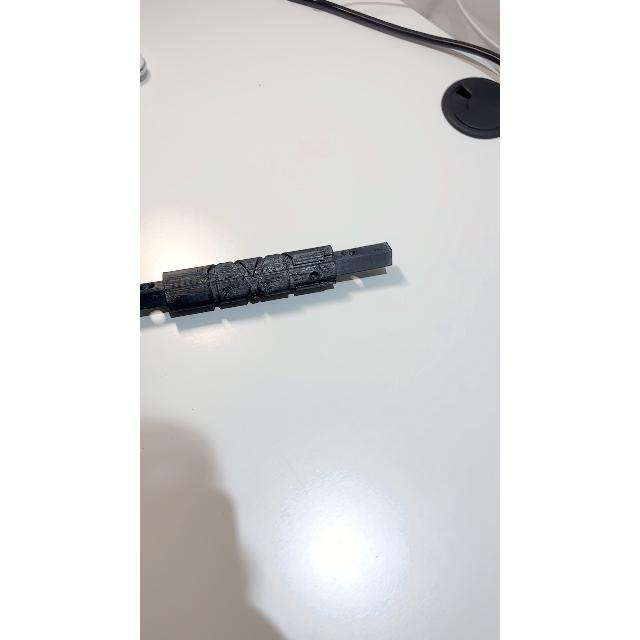Pieza_1: (142, 236, 404, 320)
